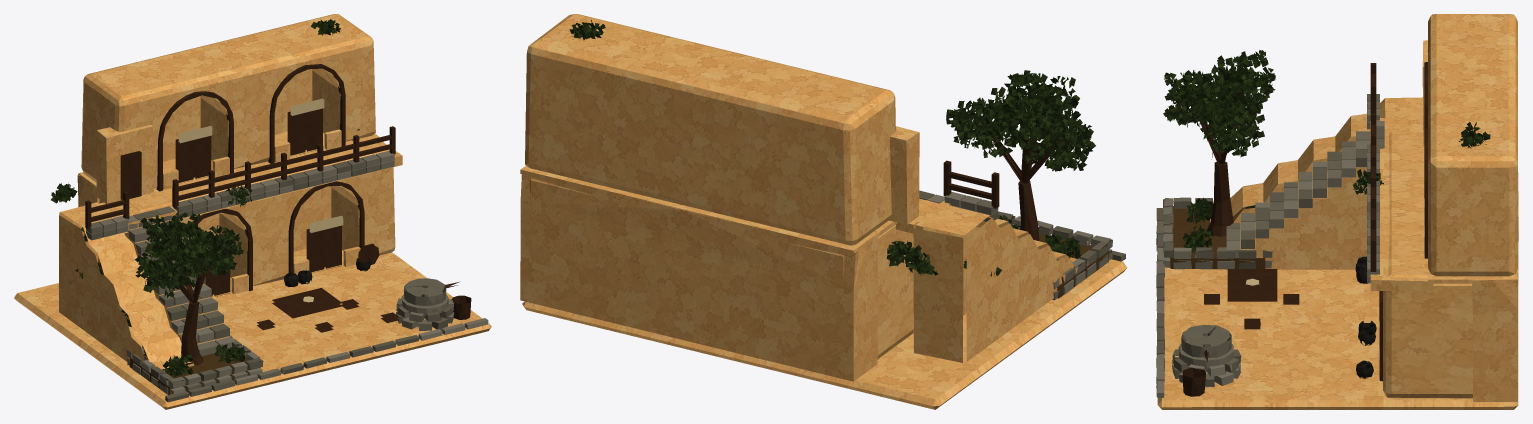
The model's file is yanan-object.glb.
3 views of the same model, side by side, from view 1: azimuth 30°, elevation 25°; view 2: azimuth 150°, elevation 25°; view 3: azimuth 270°, elevation 25° (orthographic). The views are drawn at different scales.
Visible parts, largest first — view 1: yanan-scene-complete-environment; view 2: yanan-scene-complete-environment; view 3: yanan-scene-complete-environment.
Part boxes in pixels (left/top/right/bottom): yanan-scene-complete-environment: left=14, top=14, right=491, bottom=409; yanan-scene-complete-environment: left=520, top=14, right=1127, bottom=409; yanan-scene-complete-environment: left=1156, top=14, right=1518, bottom=409.
Bounding box in the file's own units: 1 × 0.6455 × 0.8028.
13 materials, 13 textured.
